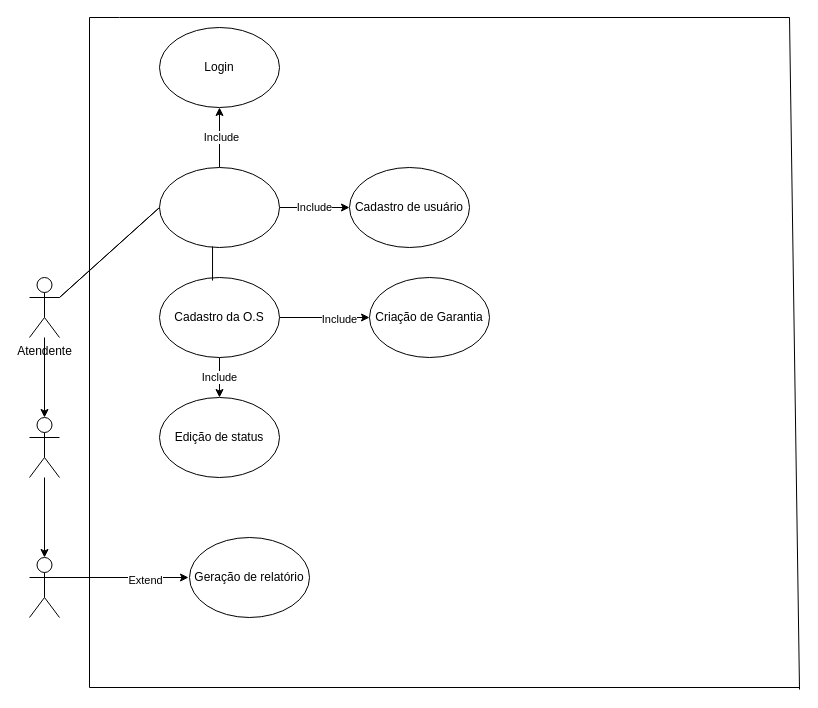
Image size: 818x708. Some labels were removed from this diagram. Here are the shapes that lost their labels. From the top down, the box of each, then its label:
(158, 166, 280, 248): Cadastro
(28, 416, 60, 478): Técnico
(28, 556, 60, 618): Gerente
